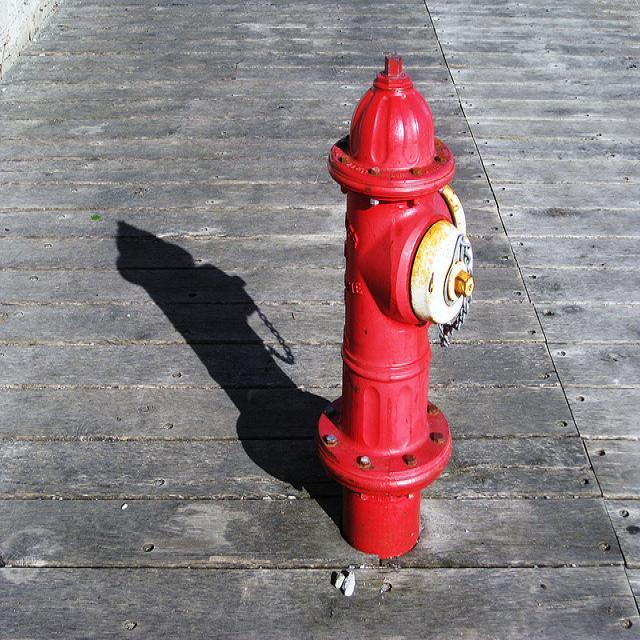fire_hydrant: (316, 51, 477, 556)
